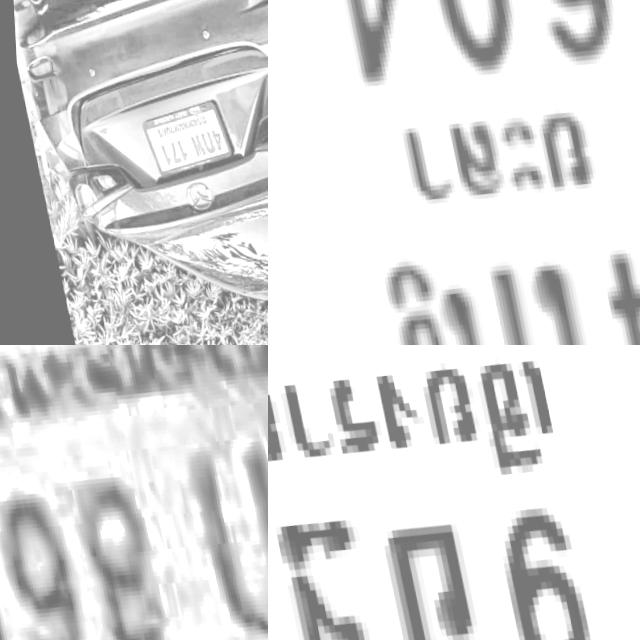license-plate: (268, 0, 640, 345), (268, 345, 640, 640), (0, 345, 268, 640), (129, 89, 239, 188)
